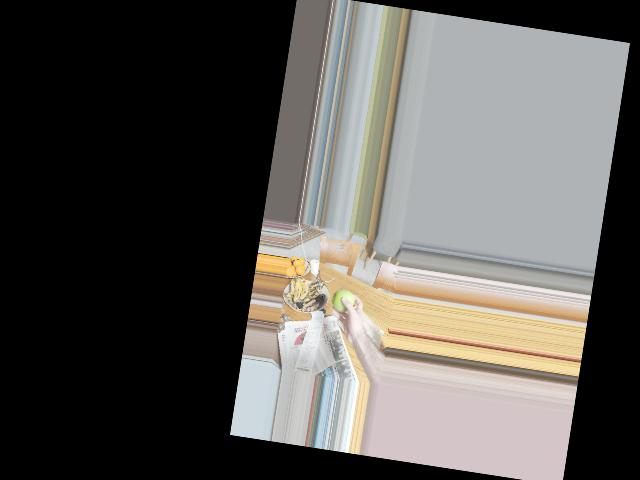apple: (330, 285, 356, 315)
